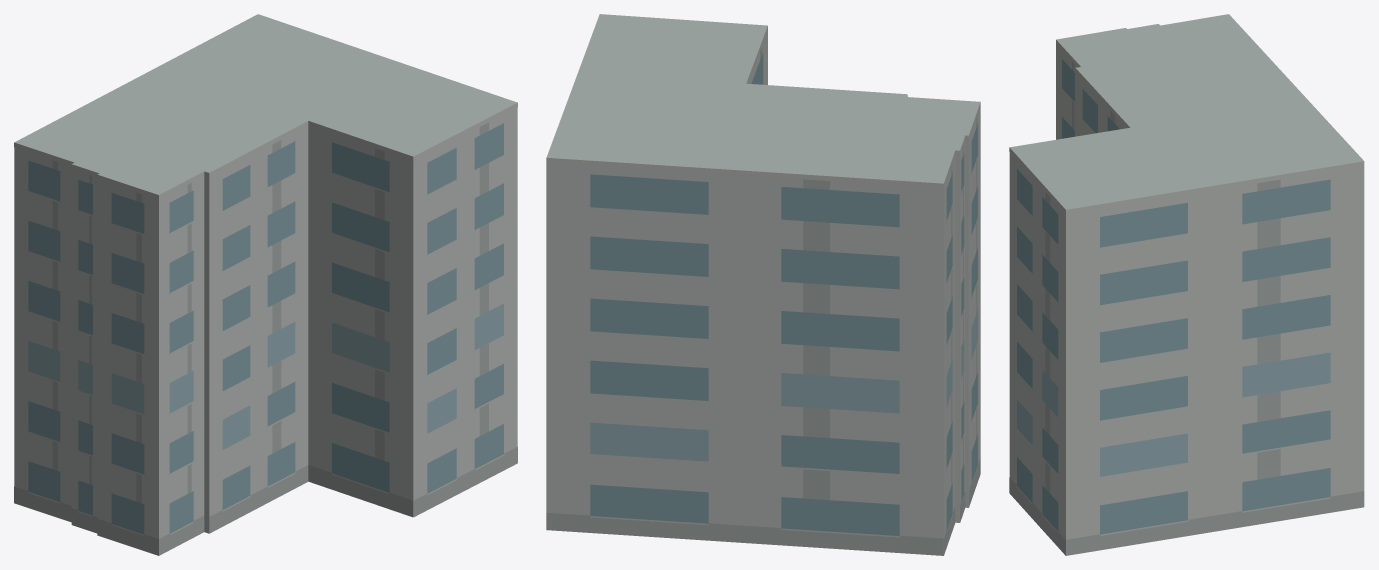
File: survey-upis-32614780.glb
3 renders of one model, left to right at view 1: azimuth 30°, elevation 25°; view 2: azimuth 150°, elevation 25°; view 3: azimuth 270°, elevation 25°, orthographic. The views are drawn at different scales.
Visible parts, largest first — view 1: survey-upis-32614780.tmp; view 2: survey-upis-32614780.tmp; view 3: survey-upis-32614780.tmp.
Part boxes in pixels (<box>): survey-upis-32614780.tmp: <box>14,14,517,555</box>; survey-upis-32614780.tmp: <box>546,14,980,555</box>; survey-upis-32614780.tmp: <box>1009,14,1364,555</box>.
Size of the model in its own units: 22.22 by 18.3 by 17.02.
